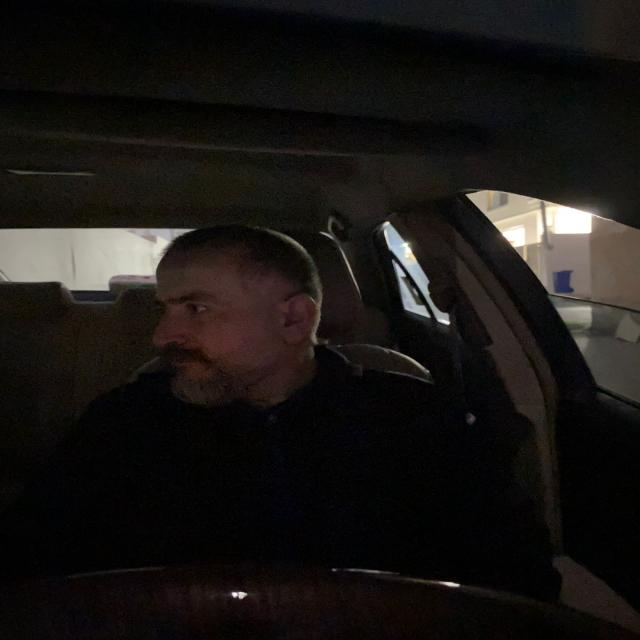LeftRight: (118, 233, 328, 404)
